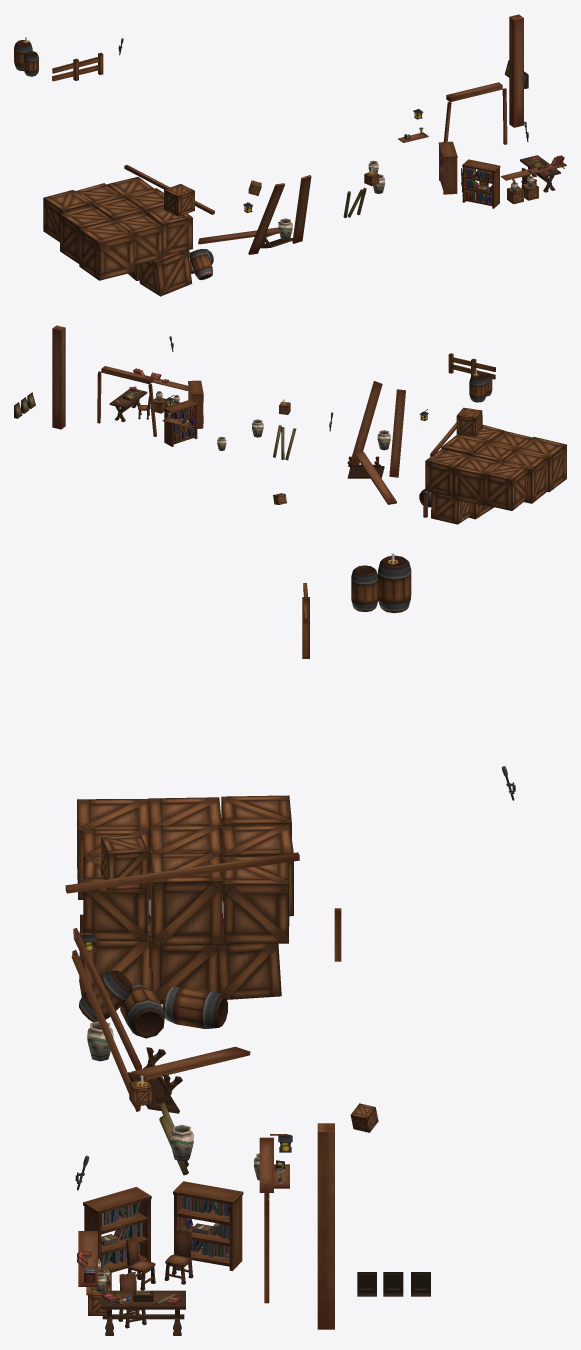
The model's file is SecondInstanceProps.FBX.
The picture shows the model from 3 angles, top to bottom: view 1: azimuth 30°, elevation 25°; view 2: azimuth 150°, elevation 25°; view 3: azimuth 270°, elevation 25°; orthographic projection. The views are drawn at different scales.
Visible parts, largest first — view 1: Box, Wooden_Plate, Book_Shelf, Wooden_Table_Book, Wooden_Barrel, Wooden_Fence, Vessel; view 2: Box, Wooden_Plate, Wooden_Table_Book, Book_Shelf, Wooden_Barrel, Vessel, Wooden_Fence; view 3: Box, Wooden_Plate, Book_Shelf, Wooden_Barrel, Wooden_Table_Book, Wooden_Chair, Vessel.
Boxes of the visible parts, <box> form: Box: <box>43,171,538,296</box>; Wooden_Plate: <box>124,14,566,254</box>; Book_Shelf: <box>438,141,500,208</box>; Wooden_Table_Book: <box>260,60,564,248</box>; Wooden_Barrel: <box>14,40,213,280</box>; Wooden_Fence: <box>52,52,103,81</box>; Vessel: <box>278,160,533,240</box>; Box: <box>153,397,566,524</box>; Wooden_Plate: <box>52,325,456,517</box>; Wooden_Table_Book: <box>14,368,384,478</box>; Book_Shelf: <box>164,380,203,446</box>; Wooden_Barrel: <box>419,373,492,507</box>; Vessel: <box>156,391,390,450</box>; Wooden_Fence: <box>448,353,495,379</box>; Box: <box>77,795,378,1315</box>; Wooden_Plate: <box>65,852,341,1329</box>; Book_Shelf: <box>83,1181,243,1272</box>; Wooden_Barrel: <box>79,555,411,1038</box>; Wooden_Table_Book: <box>77,1047,430,1335</box>; Wooden_Chair: <box>118,1228,193,1328</box>; Vessel: <box>87,1021,259,1292</box>.
Size of the model in its own units: 27.22 by 10.77 by 11.4.
